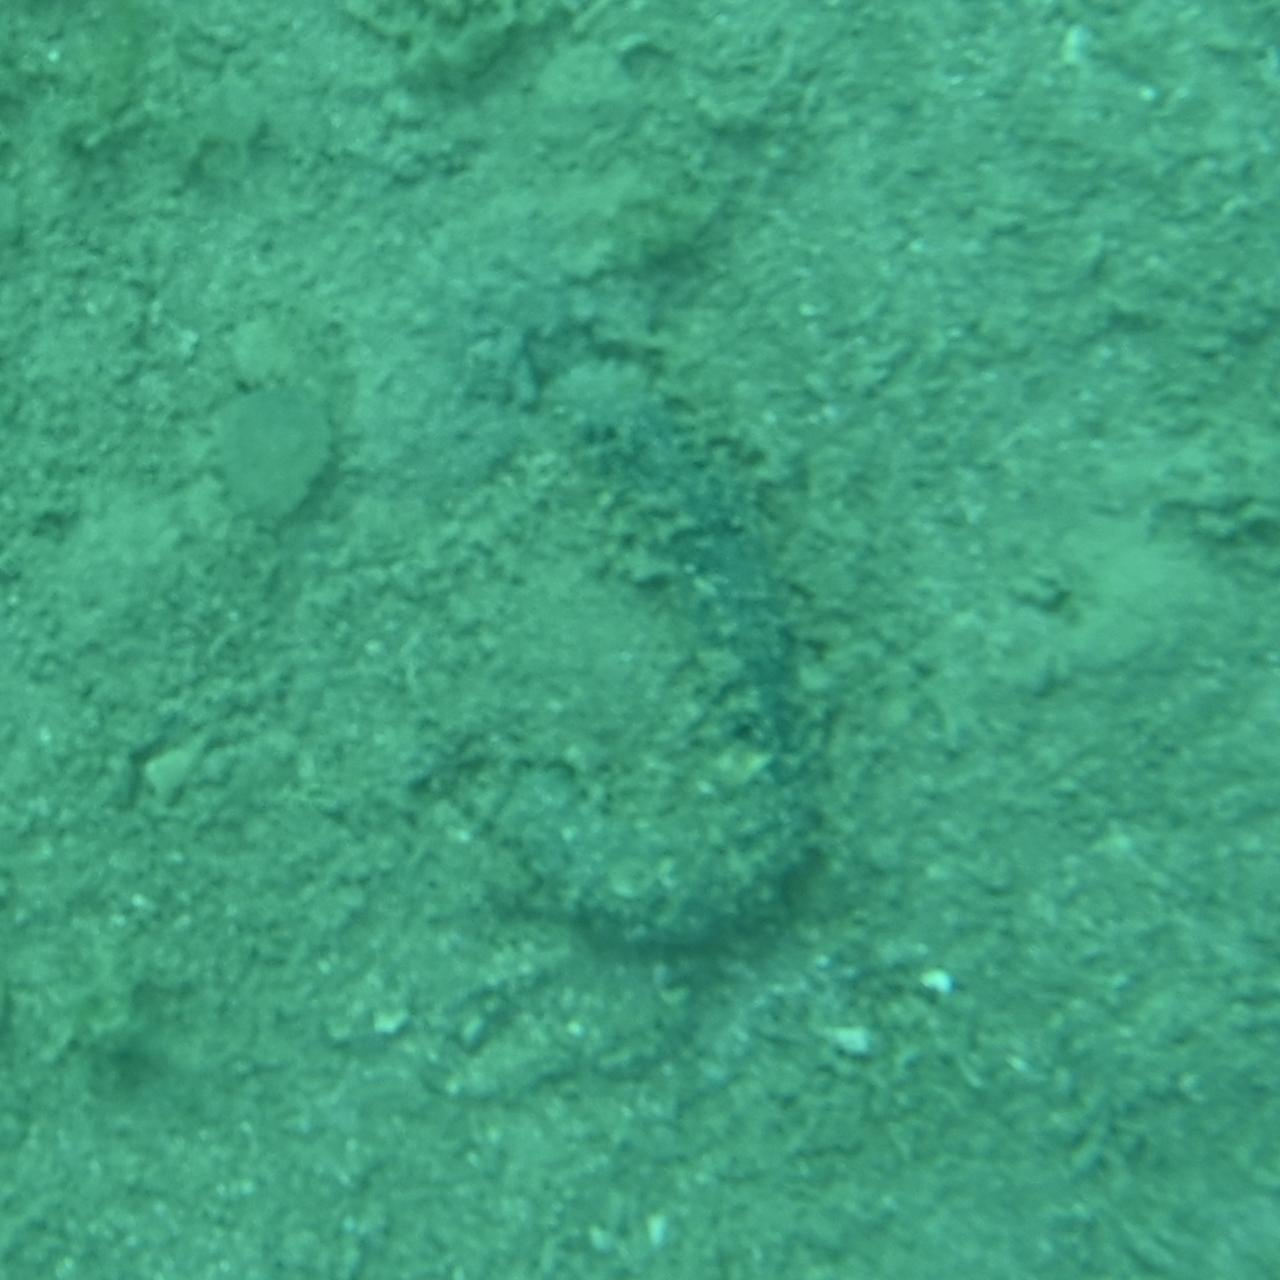Holothuria tubulosa: (423, 300, 857, 980)
